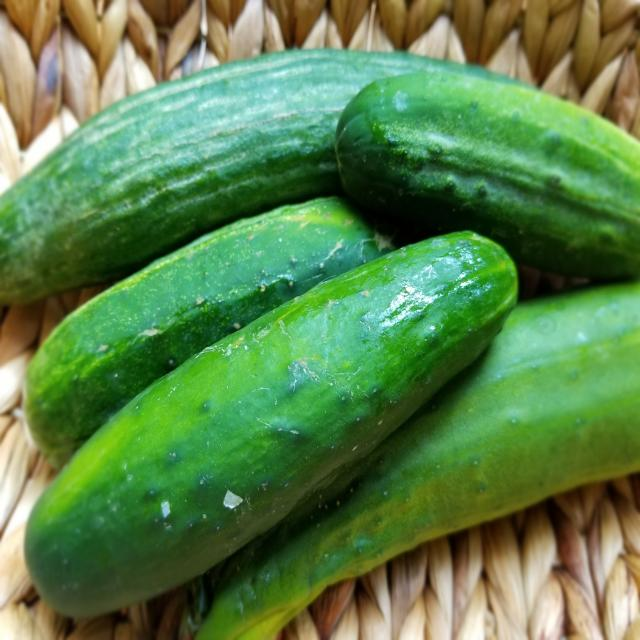Pickle: (25, 232, 518, 617), (198, 282, 640, 638), (0, 50, 500, 305), (25, 197, 395, 468), (335, 72, 640, 278)
